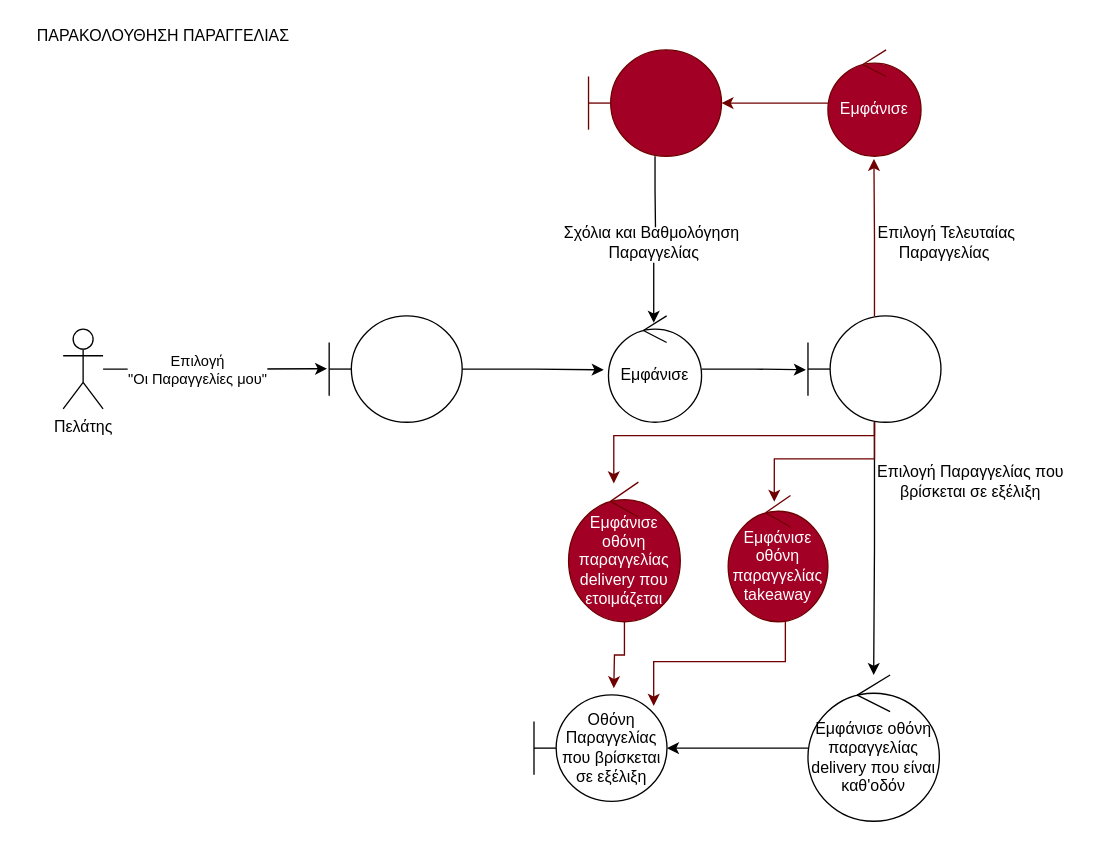
This 1099x845 diagram has some shape labels left out. The shapes that lost their labels are listed below. From the top down, each one's centre as x and y in pixels, then its label:
(654,102): Οθόνη Τελευταίας Παραγγελίας
(395,368): Αρχική Οθόνη
(874,368): Οθόνη "Οι Παραγγελίες μου"
